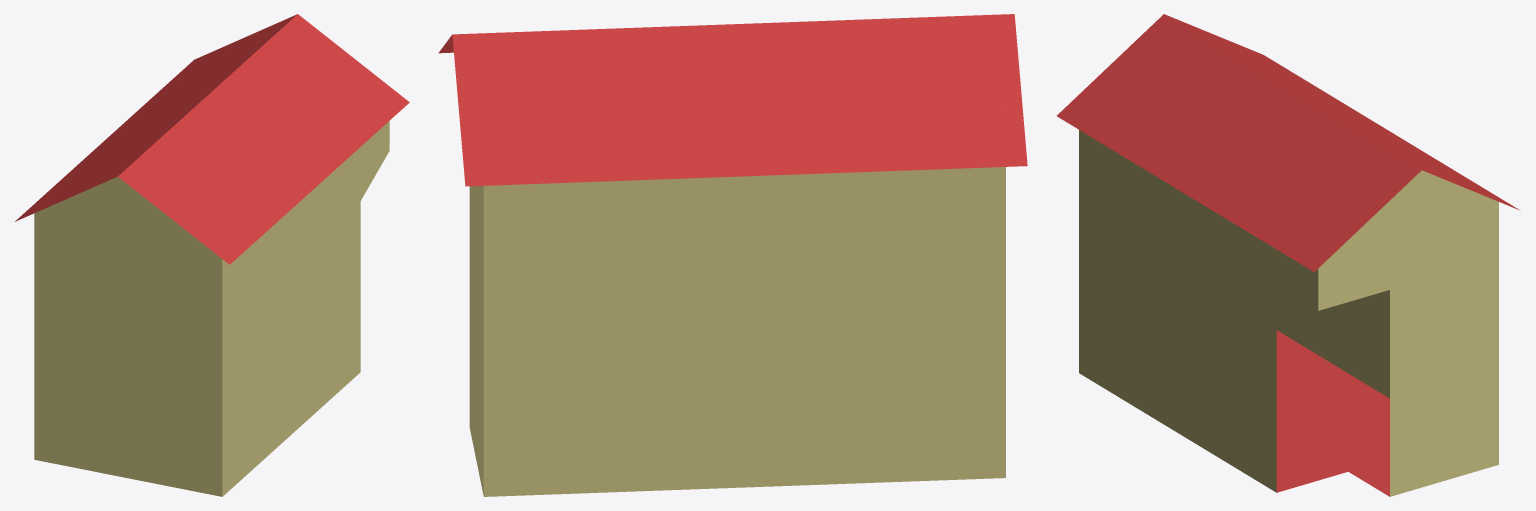
The picture shows the model from 3 angles, left to right: view 1: azimuth 30°, elevation 25°; view 2: azimuth 150°, elevation 25°; view 3: azimuth 270°, elevation 25°; orthographic projection. The views are drawn at different scales.
Size of the model in its own units: 15.91 by 14.4 by 11.12.
